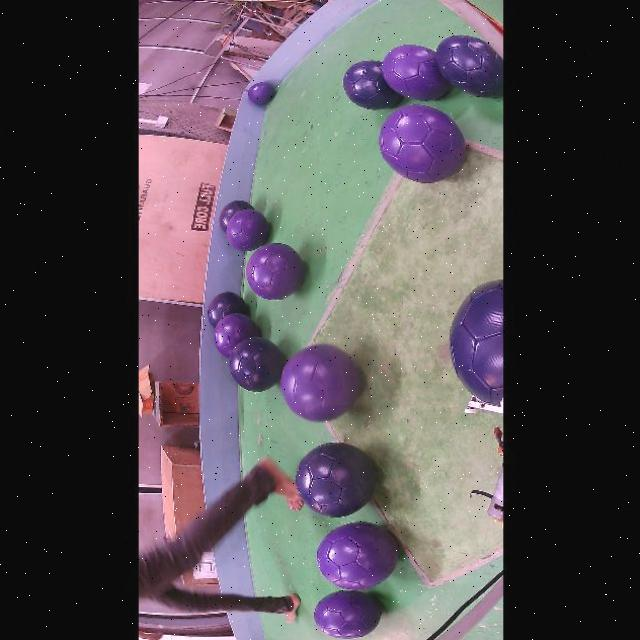B: (449, 279, 502, 406), (295, 443, 374, 517), (435, 35, 502, 98), (229, 336, 285, 392), (342, 61, 401, 110), (207, 292, 248, 326), (217, 200, 253, 231)
P: (378, 105, 464, 183), (279, 344, 359, 421), (316, 523, 397, 590), (381, 44, 449, 101), (312, 590, 381, 639), (245, 243, 304, 300), (214, 314, 259, 358), (225, 209, 268, 252), (247, 82, 274, 105)
